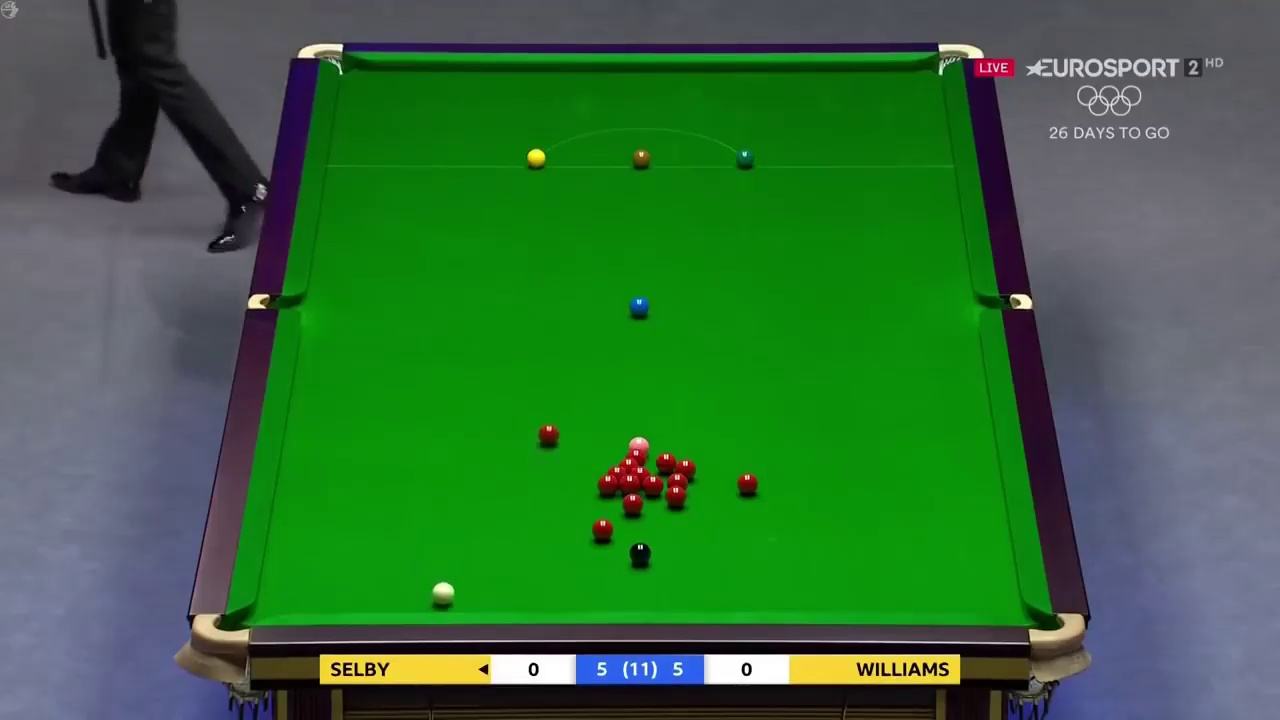black: (629, 543, 651, 566)
blue: (629, 295, 650, 317)
brown: (633, 146, 651, 169)
green: (734, 149, 756, 168)
red: (535, 423, 560, 446), (736, 472, 758, 495), (620, 492, 644, 513), (593, 519, 613, 543), (665, 487, 687, 508), (656, 451, 676, 473), (597, 476, 620, 495)
white: (426, 579, 459, 607)
yellow: (523, 146, 549, 167)
